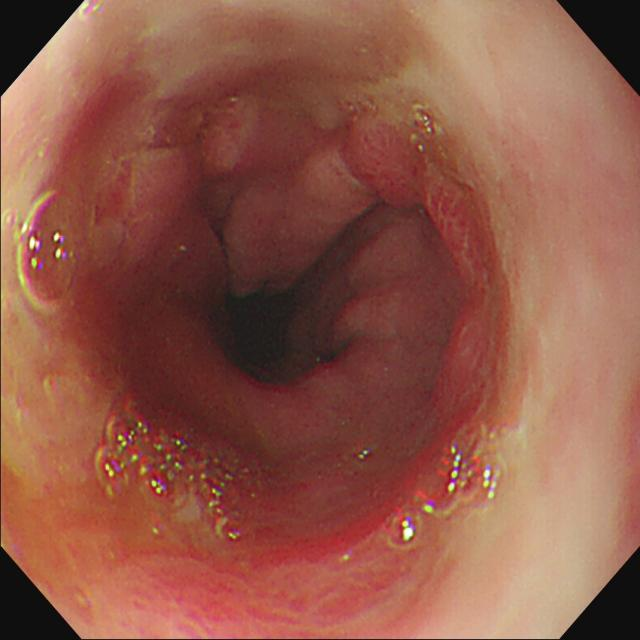A: (95, 151, 189, 264), (420, 173, 494, 297), (191, 92, 273, 178), (345, 116, 424, 203)
E: (229, 295, 296, 359)
U: (101, 421, 243, 542), (18, 190, 66, 313), (441, 445, 498, 503), (396, 507, 414, 545)
